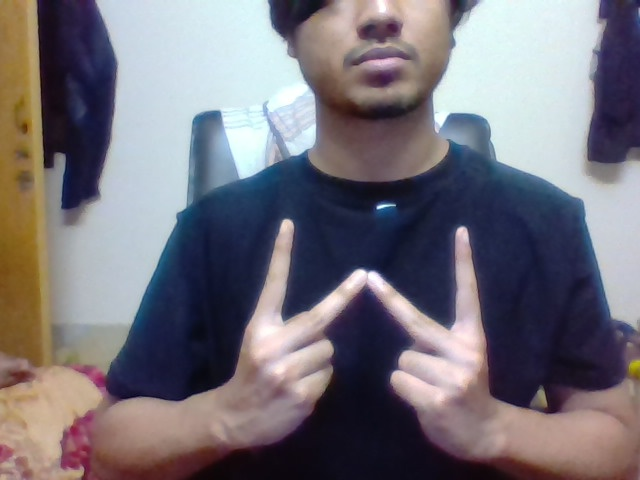W: (257, 213, 488, 335)
